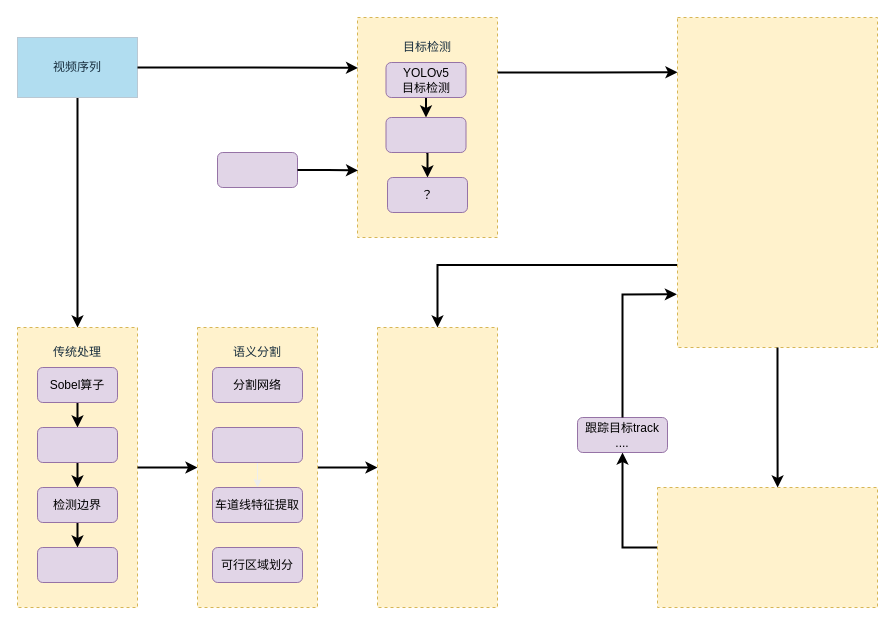
Image size: 895x625. Some labels were removed from this diagram. Each missing label, with the centre of its shape:
Fast-SCNN网络: the point at 257,444
多项式拟合: the point at 77,564
模型剪枝: the point at 257,170
目标框筛选: the point at 425,134
阈值过滤: the point at 77,444
